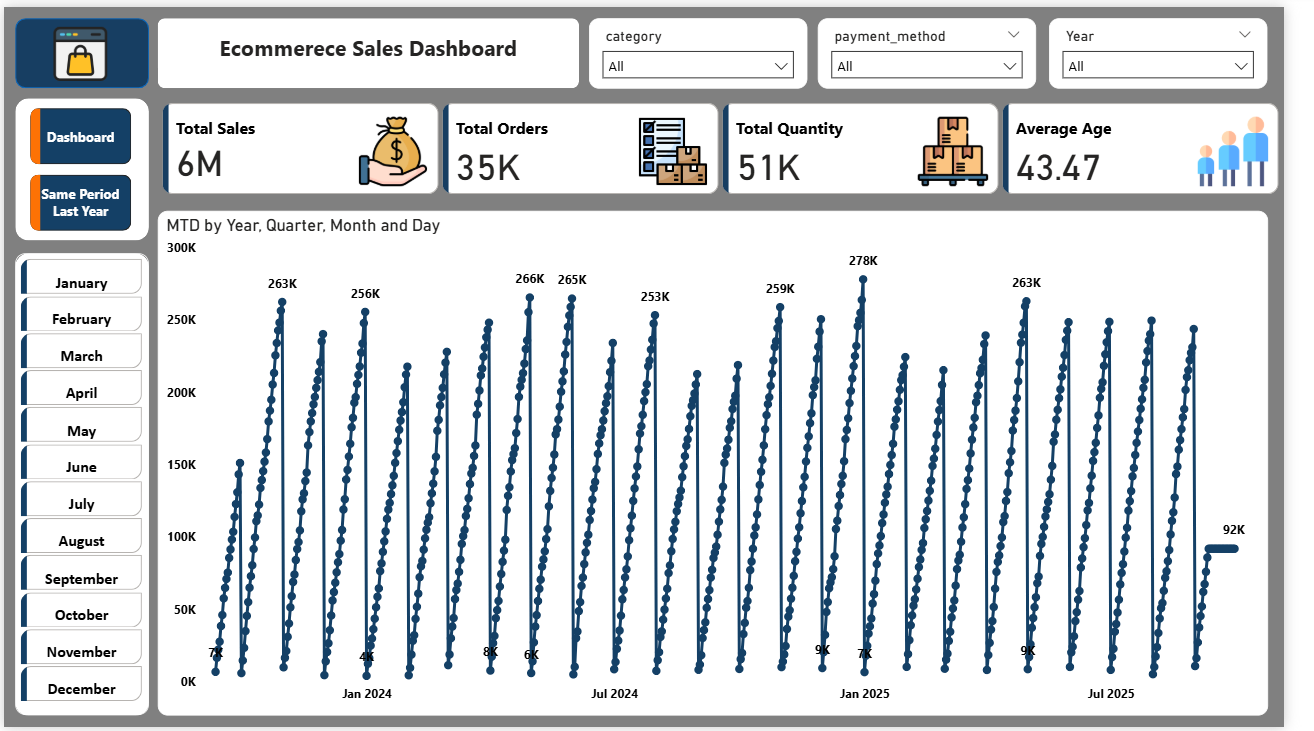

The dashboard page shown, as its layout file describes it:
{"tool":"powerbi","page":{"name":"MTD Report","canvas":[1280,720],"ordinal":1},"visuals":[{"type":"shape","box":[11.2,11.2,133.8,70],"z":0},{"type":"shape","box":[11,90.8,133.7,142.3],"z":1000},{"type":"shape","box":[11,246.6,133.7,462.6],"z":2000},{"type":"cardVisual","fields":{"Data":["KPI.Total Sales","KPI.Total_Orders","KPI.Total_Quantity","KPI.Average Age"]},"box":[153.8,91.2,1126.2,101.2],"z":3000},{"type":"shape","box":[153.8,11.2,421.2,70],"z":4000},{"type":"textbox","box":[171.2,21.2,386.2,60],"z":5000},{"type":"slicer","fields":{"Values":["ecommerce_sales_34500.category"]},"box":[585,11.2,218.8,70],"z":6000},{"type":"image","box":[0,11,153.4,71.2],"z":7000},{"type":"slicer","fields":{"Values":["ecommerce_sales_34500.payment_method"]},"box":[813.8,11.2,218.8,70],"z":8000},{"type":"slicer","fields":{"Values":["Custom_calender.order_date.Variation.Date Hierarchy.Year"]},"box":[1045,11.2,218.8,70],"z":9000},{"type":"advancedSlicerVisual","fields":{"Values":["Custom_calender.order_date.Variation.Date Hierarchy.Month"]},"box":[11.2,246.2,133.8,461.2],"z":10000},{"type":"lineChart","fields":{"Y":["KPI.MTD"],"Category":["Custom_calender.order_date.Variation.Date Hierarchy.Year","Custom_calender.order_date.Variation.Date Hierarchy.Quarter","Custom_calender.order_date.Variation.Date Hierarchy.Month","Custom_calender.order_date.Variation.Date Hierarchy.Day"]},"box":[153.8,203.8,1110,505],"z":11000},{"type":"pageNavigator","box":[26.2,101.2,101.2,122.5],"z":12000}]}

Visuals, with their boxes in screenshot pixels (x1, y1, x2, y2), scaled from the page's 1280x720 canvas onto the 1314x731 screenshot:
shape: {"left": 11, "top": 11, "right": 149, "bottom": 82}
shape: {"left": 11, "top": 92, "right": 149, "bottom": 237}
shape: {"left": 11, "top": 250, "right": 149, "bottom": 720}
cardVisual - KPI.Total Sales x KPI.Total_Orders: {"left": 158, "top": 93, "right": 1313, "bottom": 195}
shape: {"left": 158, "top": 11, "right": 590, "bottom": 82}
textbox: {"left": 176, "top": 22, "right": 572, "bottom": 82}
slicer - ecommerce_sales_34500.category: {"left": 601, "top": 11, "right": 825, "bottom": 82}
image: {"left": 0, "top": 11, "right": 157, "bottom": 83}
slicer - ecommerce_sales_34500.payment_method: {"left": 835, "top": 11, "right": 1060, "bottom": 82}
slicer - Custom_calender.order_date.Variation.Date Hierarchy.Year: {"left": 1073, "top": 11, "right": 1297, "bottom": 82}
advancedSlicerVisual - Custom_calender.order_date.Variation.Date Hierarchy.Month: {"left": 11, "top": 250, "right": 149, "bottom": 718}
lineChart - KPI.MTD x Custom_calender.order_date.Variation.Date Hierarchy.Year: {"left": 158, "top": 207, "right": 1297, "bottom": 720}
pageNavigator: {"left": 27, "top": 103, "right": 131, "bottom": 227}
